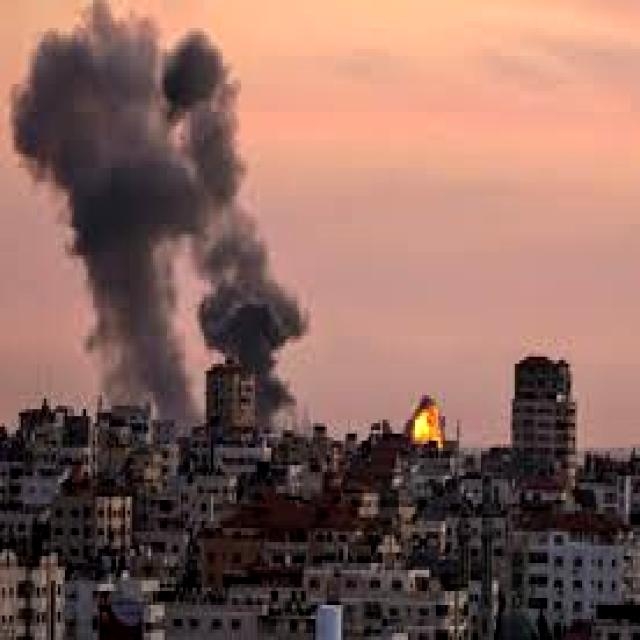Fire: (410, 407, 452, 462)
Smoke: (21, 0, 293, 435)
